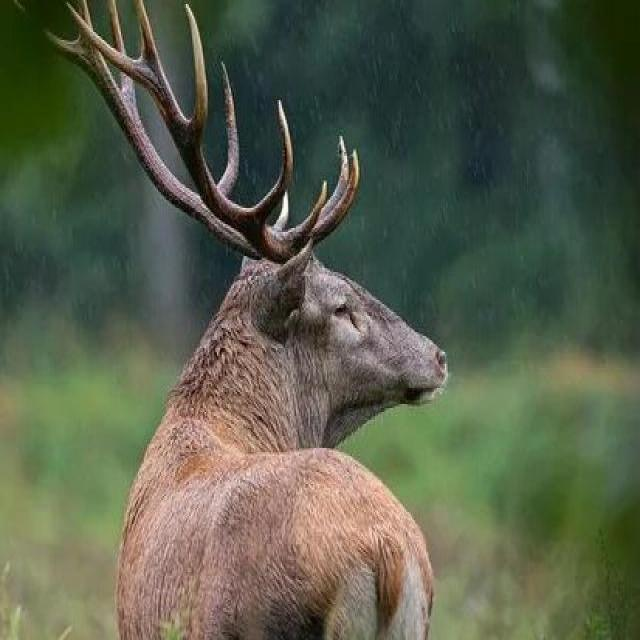deer: (44, 65, 492, 599)
